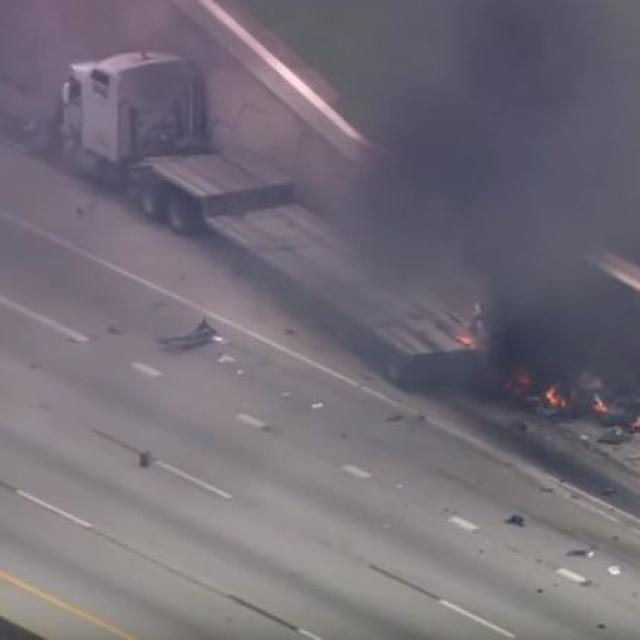traffic_incident: (71, 57, 586, 421)
